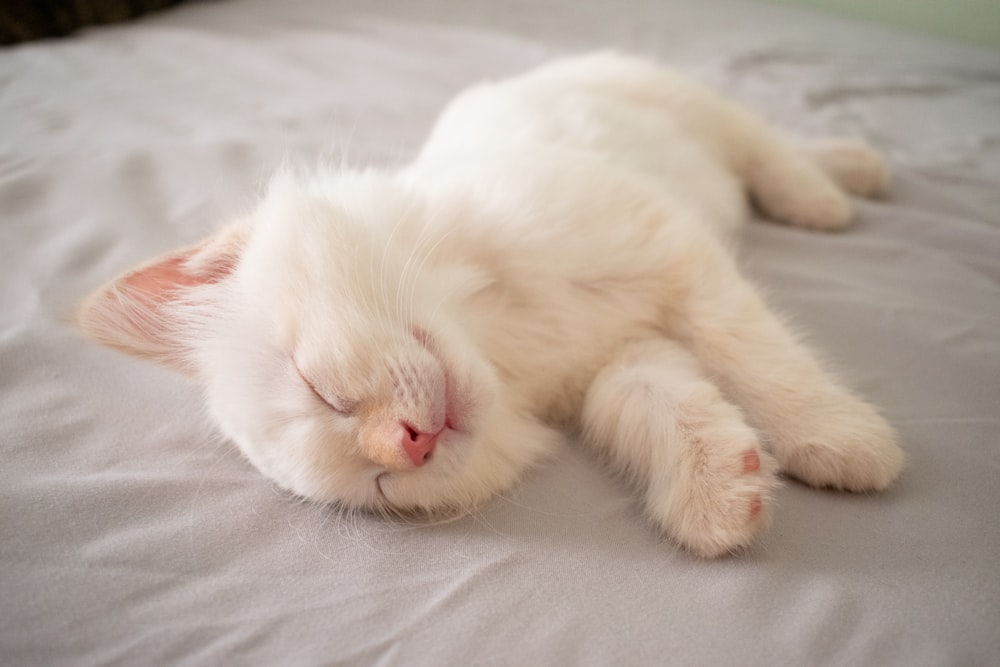Cat: (74, 47, 909, 563)
